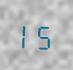five: (36, 20, 52, 50)
one: (19, 19, 35, 49)
